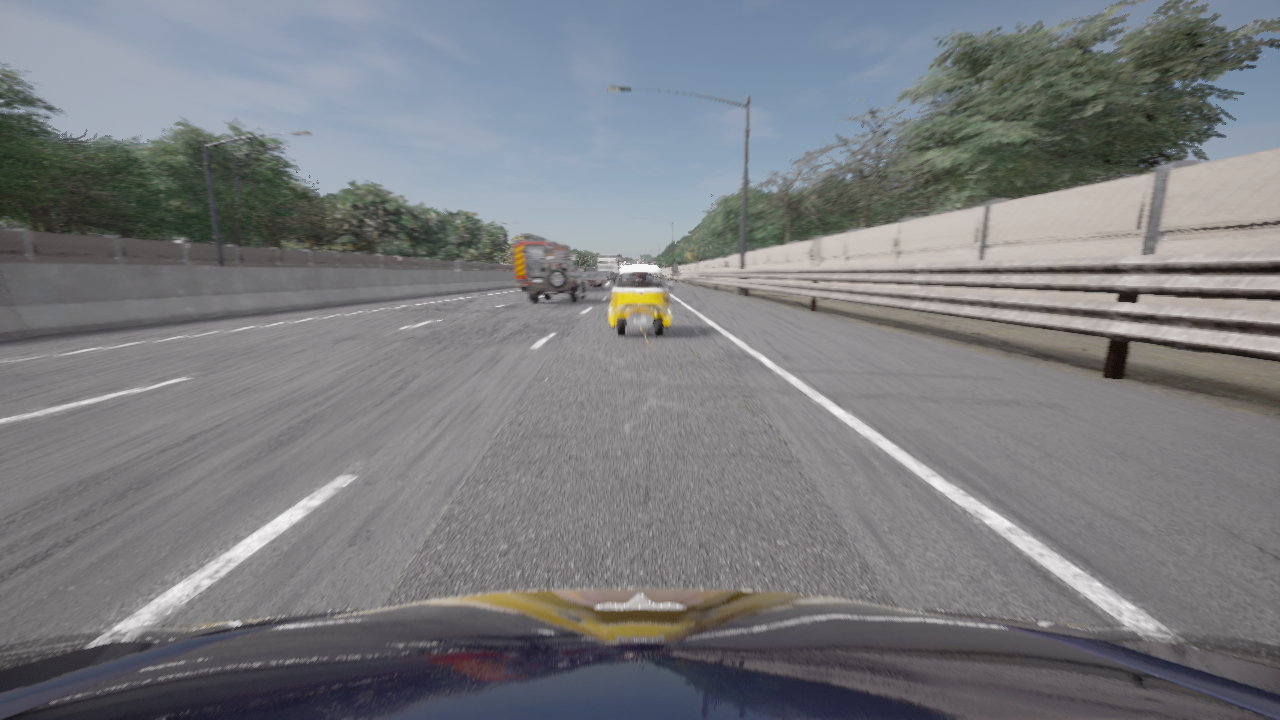cyclist: (0, 588, 1279, 719), (606, 265, 673, 336), (514, 234, 574, 290), (527, 258, 586, 302), (595, 253, 623, 284), (582, 272, 606, 289)
